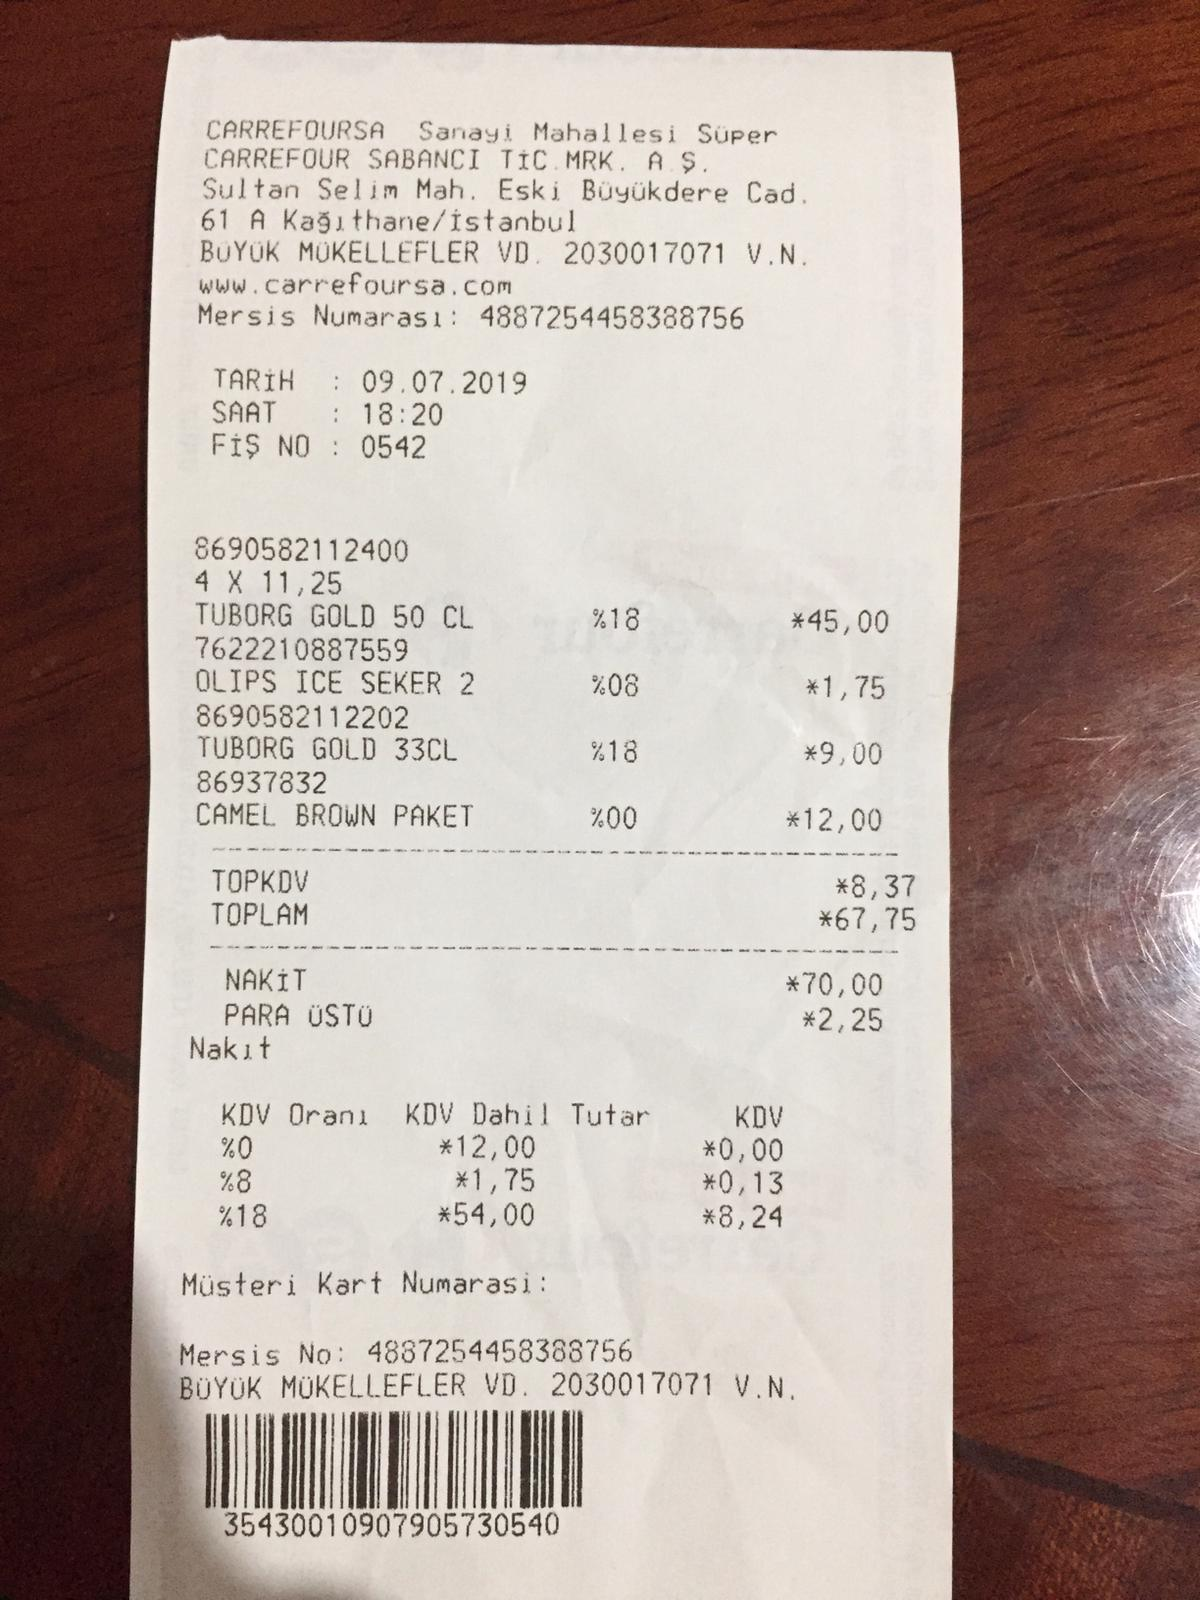total: (214, 896, 930, 942)
